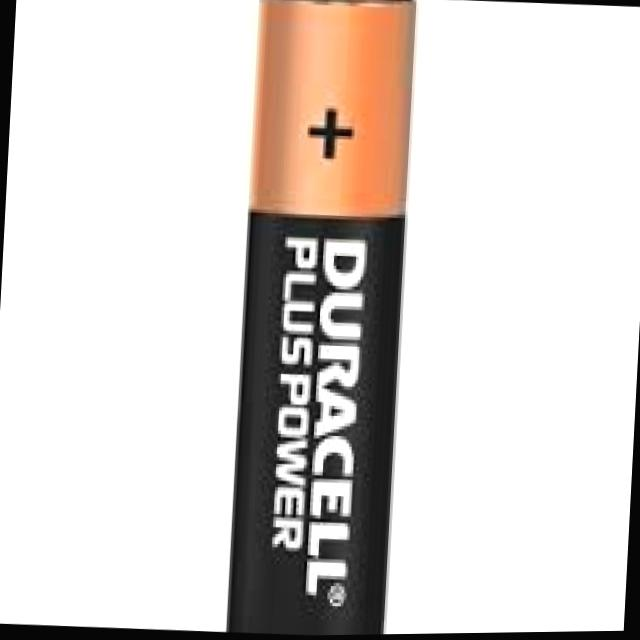B3: (171, 0, 474, 638)
